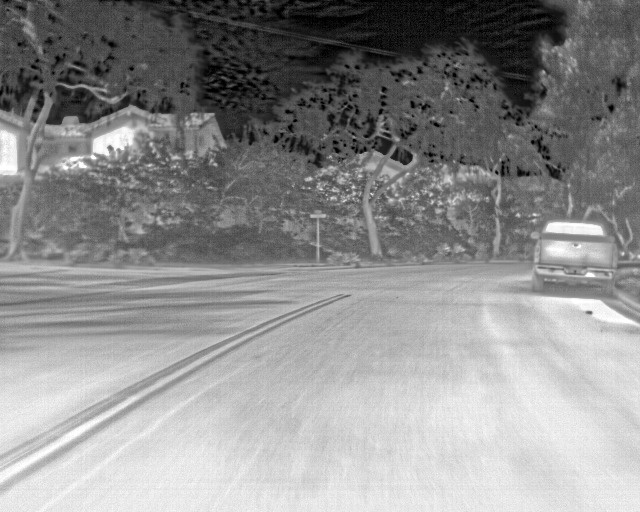vehicle: (533, 218, 619, 291)
